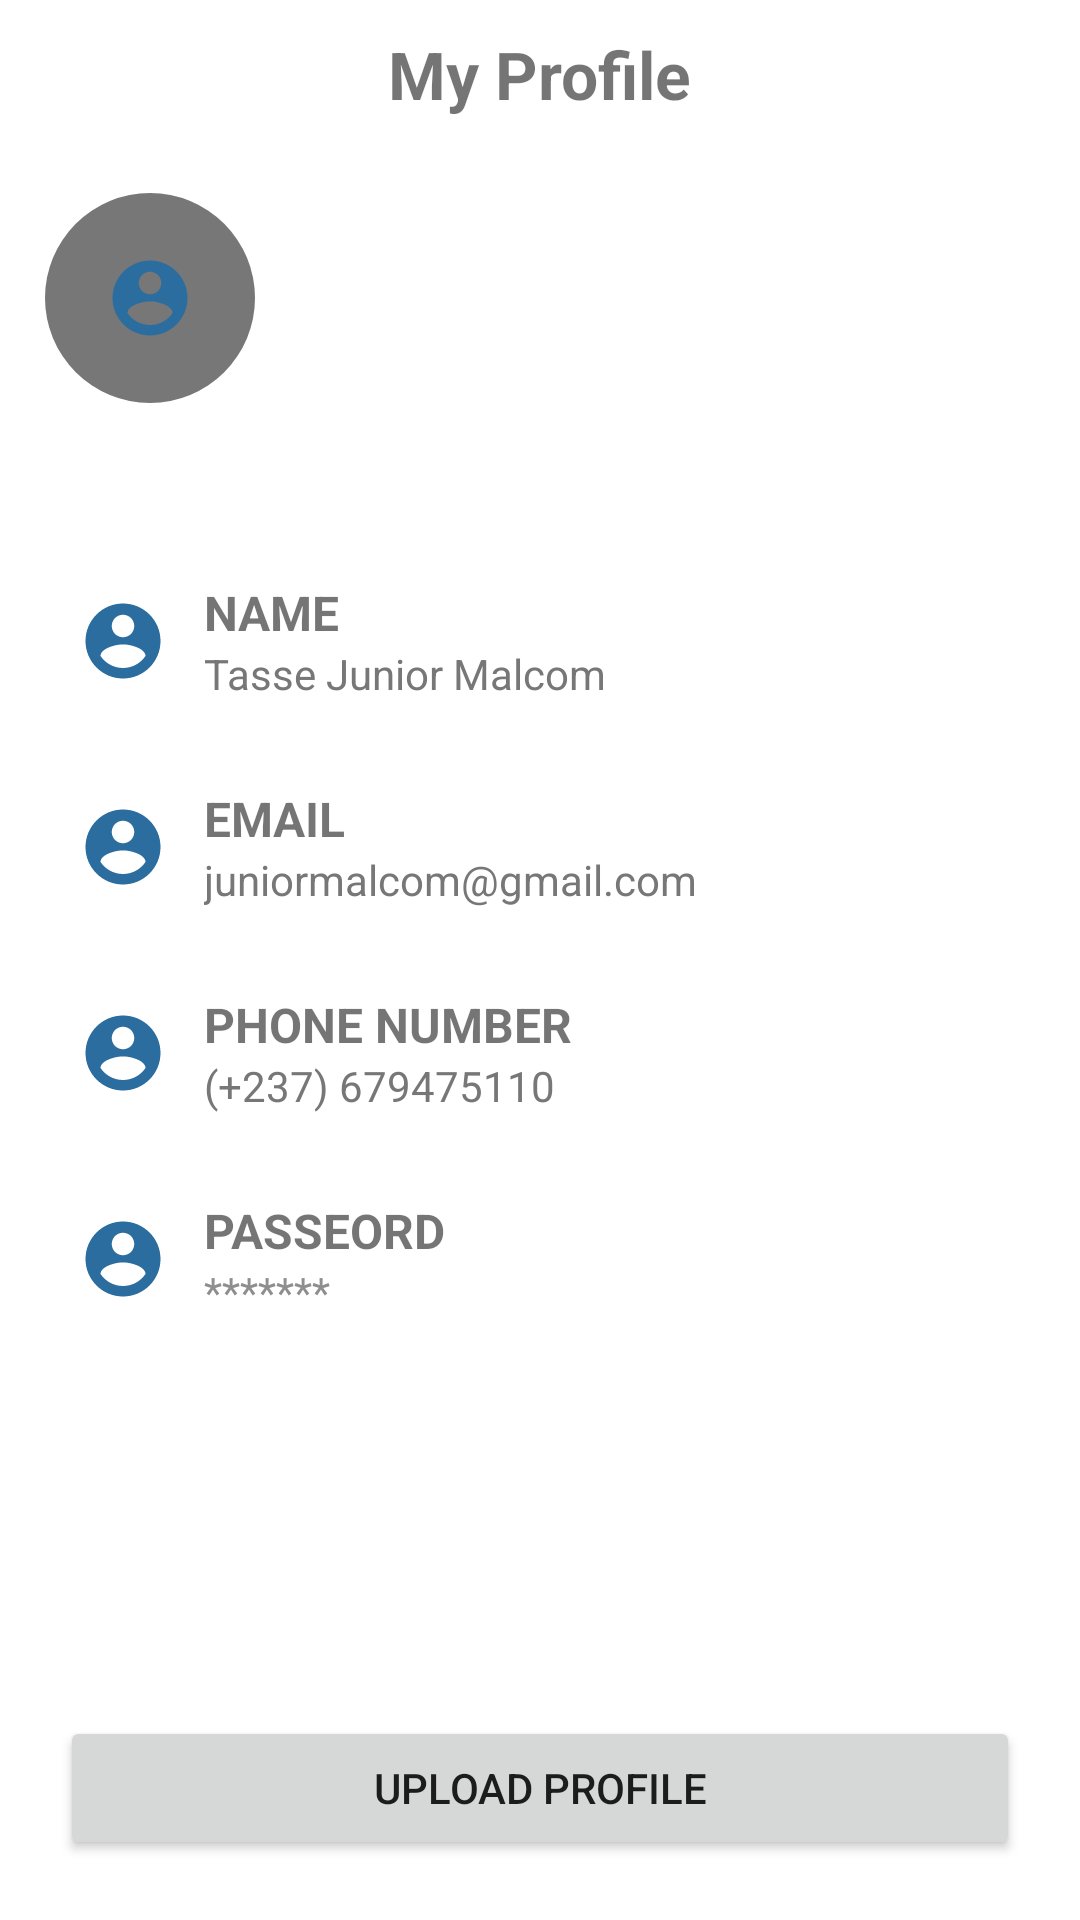

Icons on this 1080×1920 Android screen, each with the point to tap as point (x, y):
account circle: point (150, 298), point (123, 641), point (123, 847), point (123, 1053), point (123, 1259)
